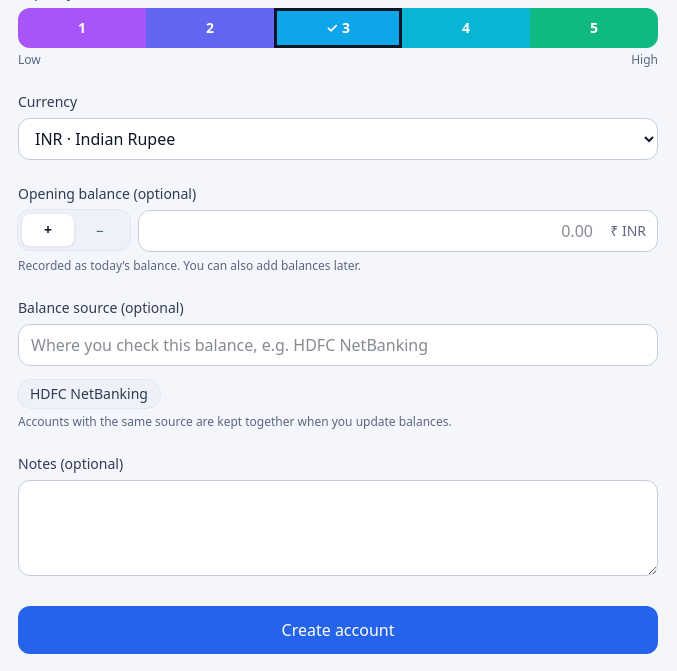
Test: NewAccountPage › suggests balance sources used before as chips, filtered by what’s typed
(page scrolled)
expect the element named "Sources you’ve used" reads "HDFC NetBanking": met, box 18,380 -> 160,408
Type "zer" into the field labelled "Balance source (optional)" at (338, 345), box 18,324 -> 658,366
(page scrolled)
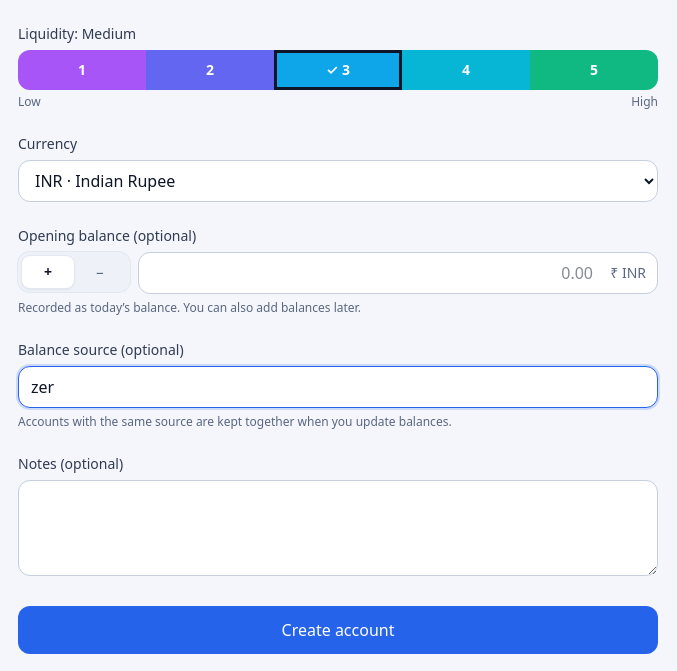
Clear the field labelled "Balance source (optional)" at (338, 387), box 18,366 -> 658,408
(page scrolled)
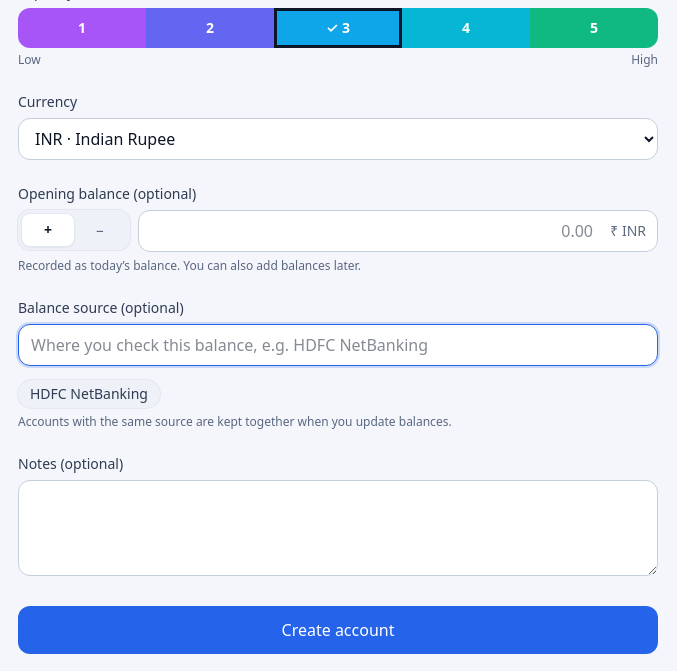
Type "hdfc" into the field labelled "Balance source (optional)" at (338, 345), box 18,324 -> 658,366
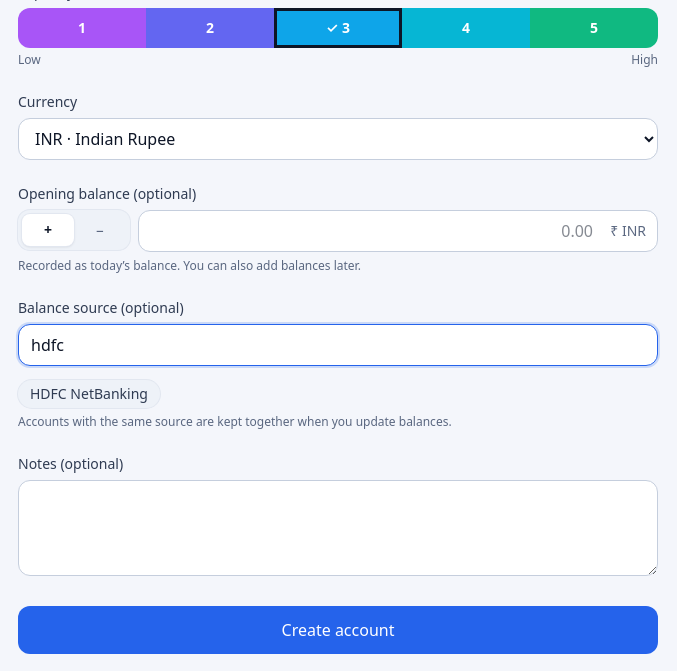
Click the button "HDFC NetBanking" at (89, 394), box 18,380 -> 160,408
(page scrolled)
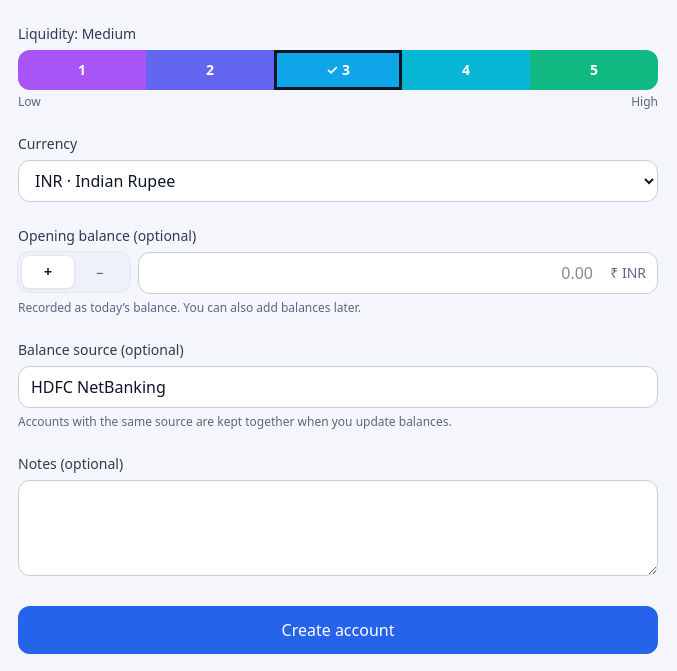
expect the field labelled "Balance source (optional)" holds "HDFC NetBanking": met, box 18,366 -> 658,408
